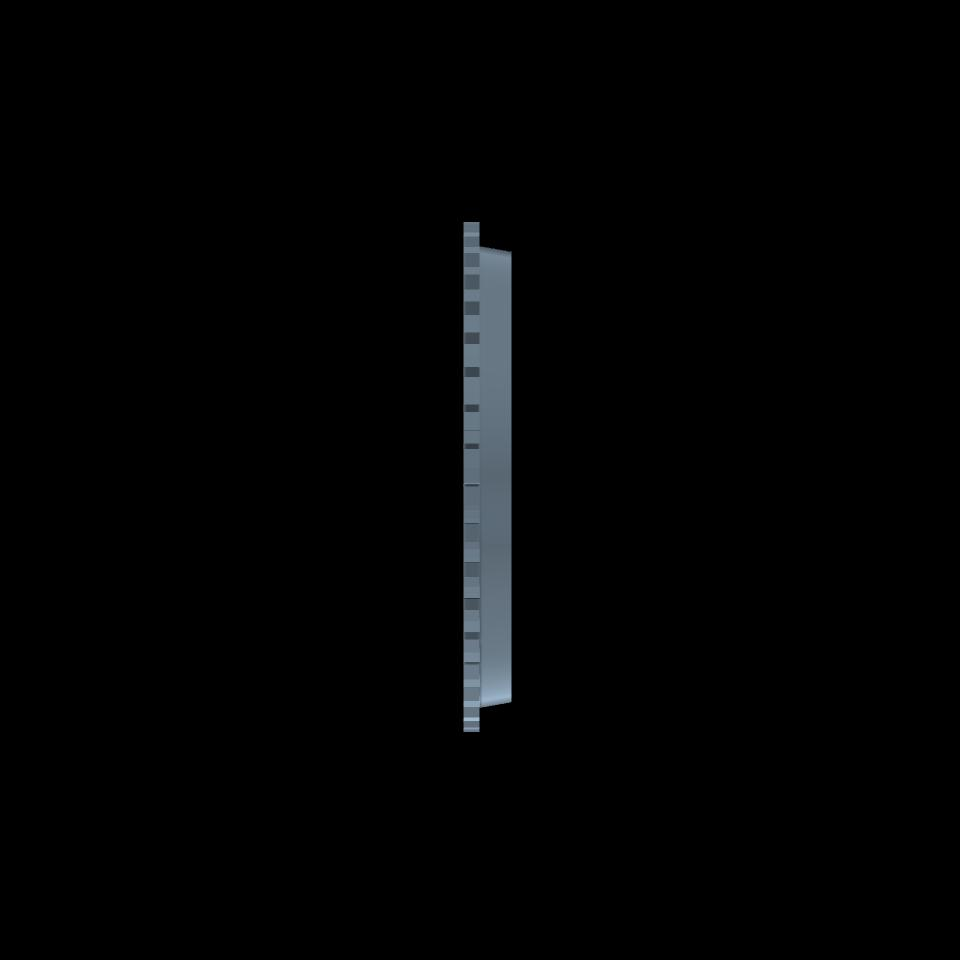Straight: (463, 221, 480, 731)
